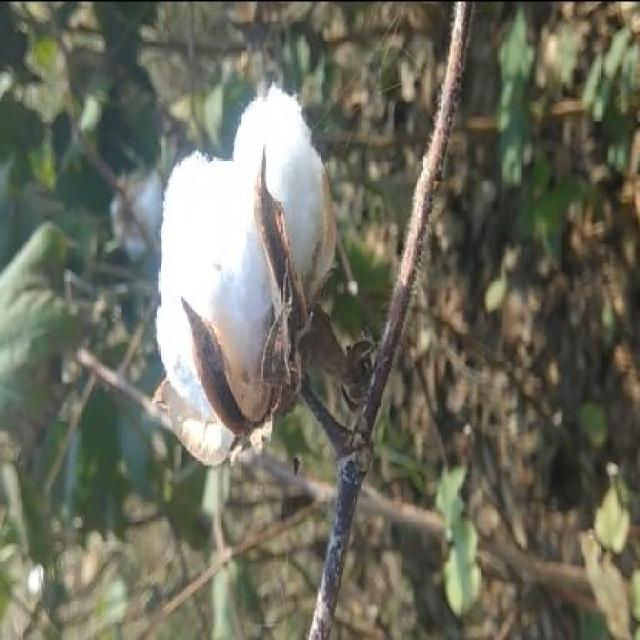cotton_ready: (128, 68, 374, 494)
